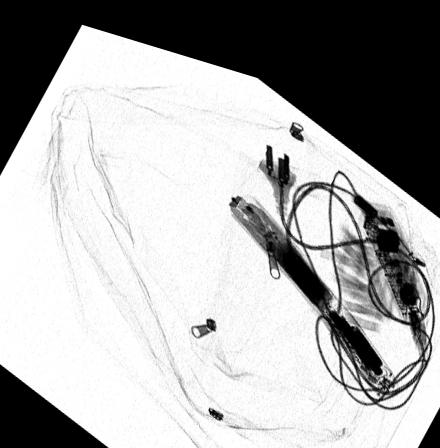Baton: (227, 177, 397, 364)
